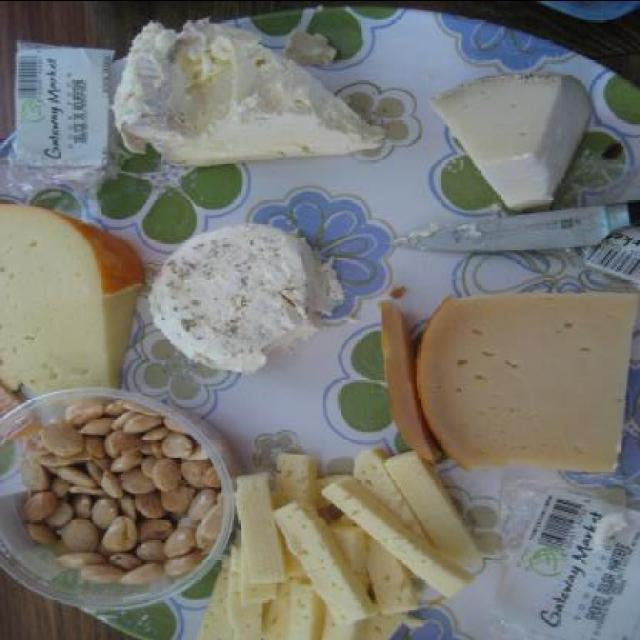Cheese: (191, 451, 483, 640), (102, 19, 386, 170), (410, 291, 639, 475), (142, 220, 342, 374), (0, 198, 140, 408), (422, 69, 594, 213), (283, 508, 383, 636), (378, 298, 440, 464)
